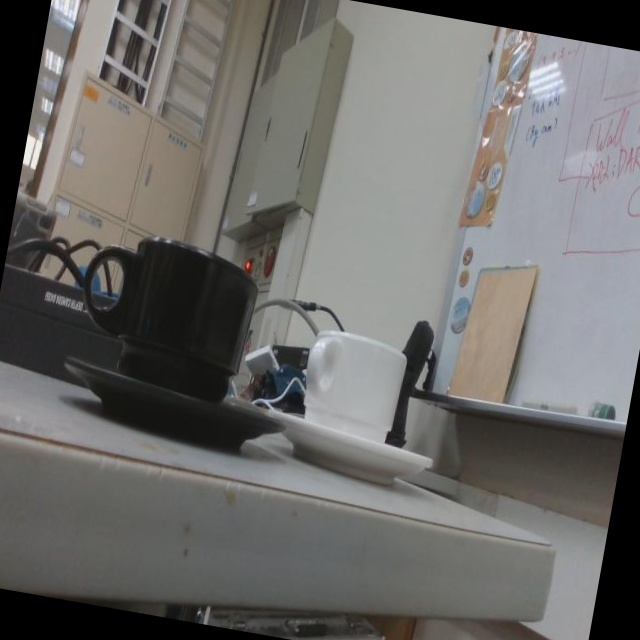black: (65, 236, 302, 447)
white: (268, 332, 445, 480)
